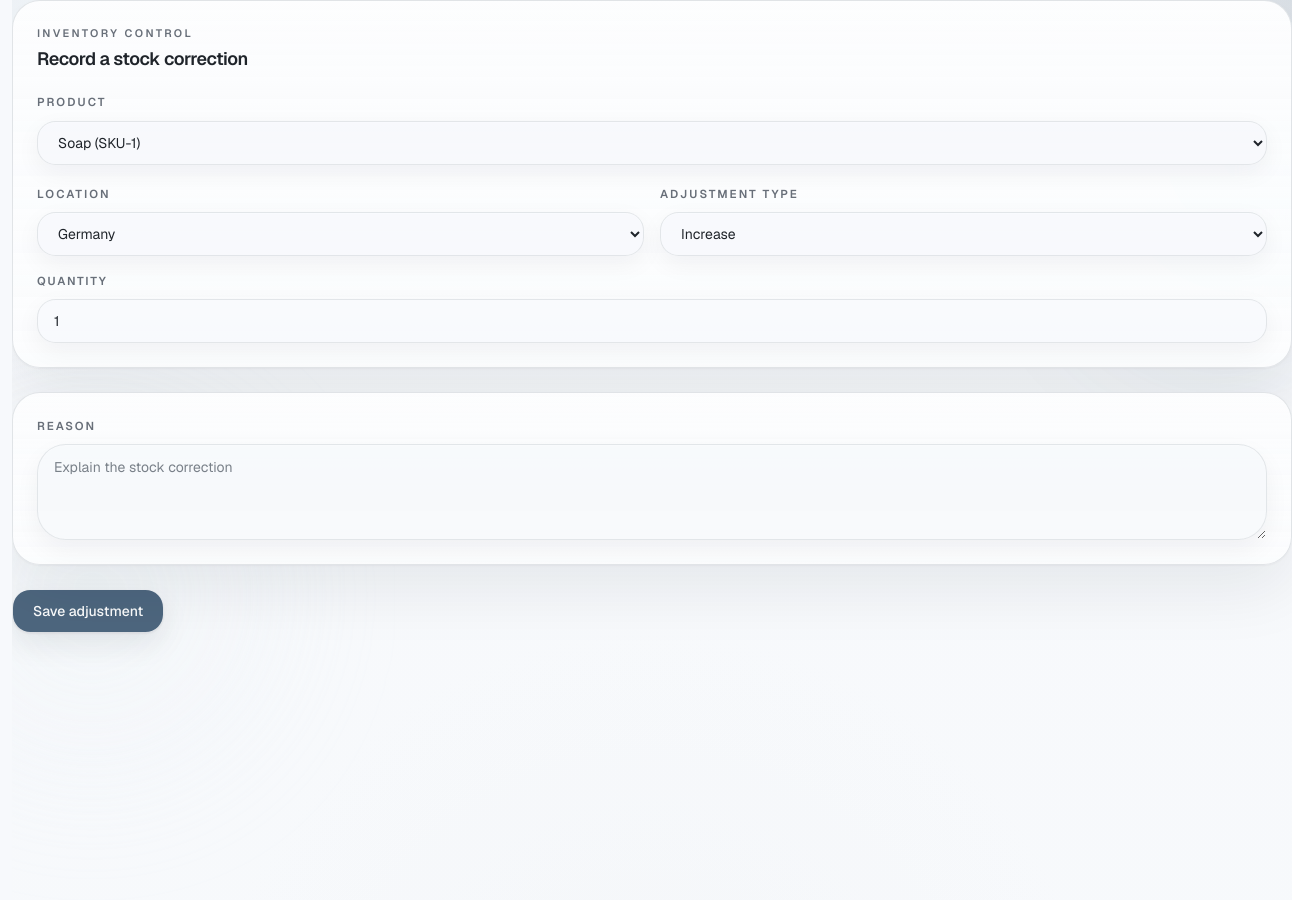
Test: InventoryAdjustmentForm › shows landed cost input for bangladesh increase and set adjustments
Select "Bangladesh" in the dropdown labelled "Location" at {"x": 340, "y": 234}, box [37,212,644,256]
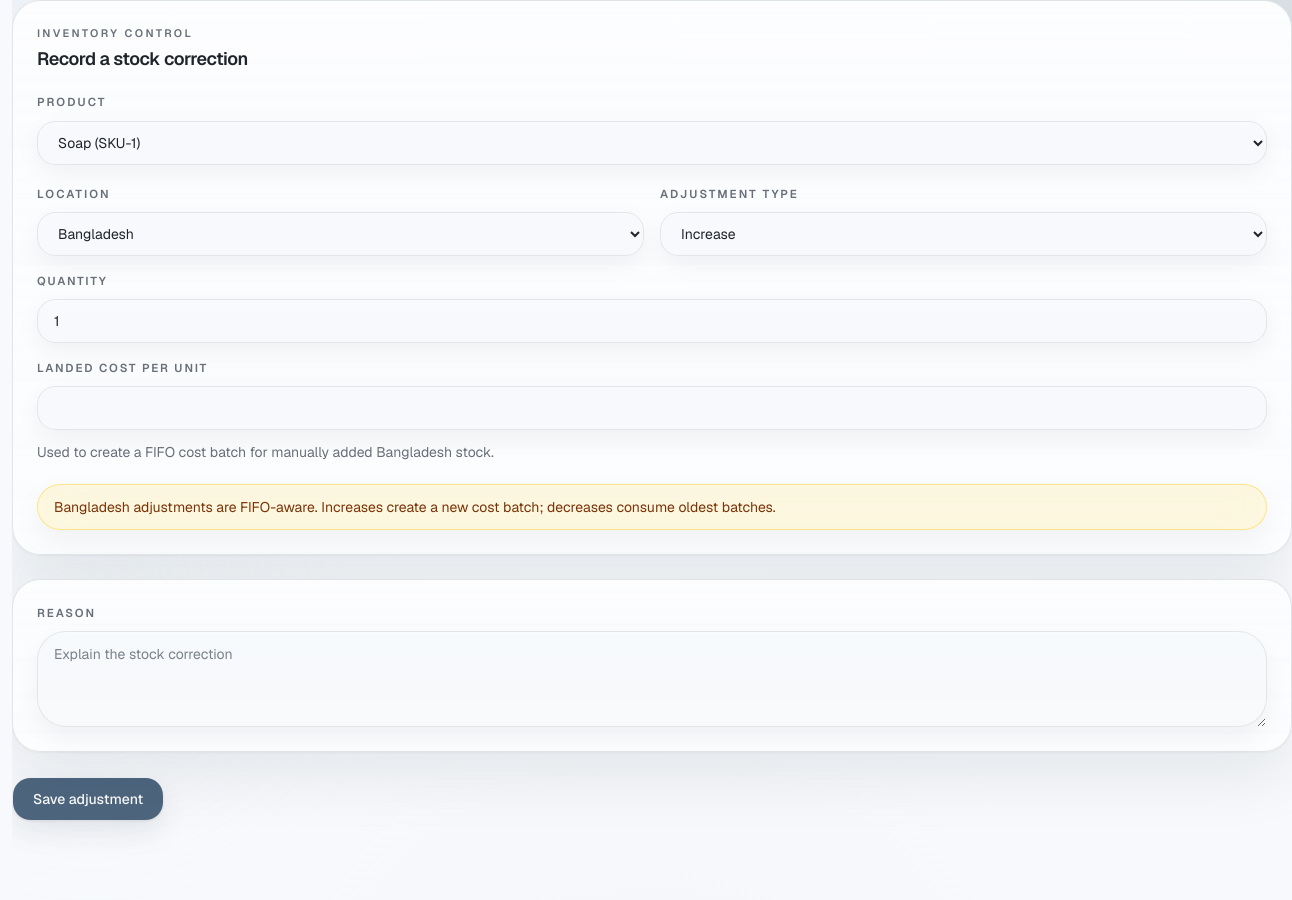
Result: the number field labelled "Landed cost per unit" is shown at [37,386,1267,430]
Select "Decrease" in the dropdown labelled "Adjustment type" at {"x": 964, "y": 234}, box [660,212,1267,256]
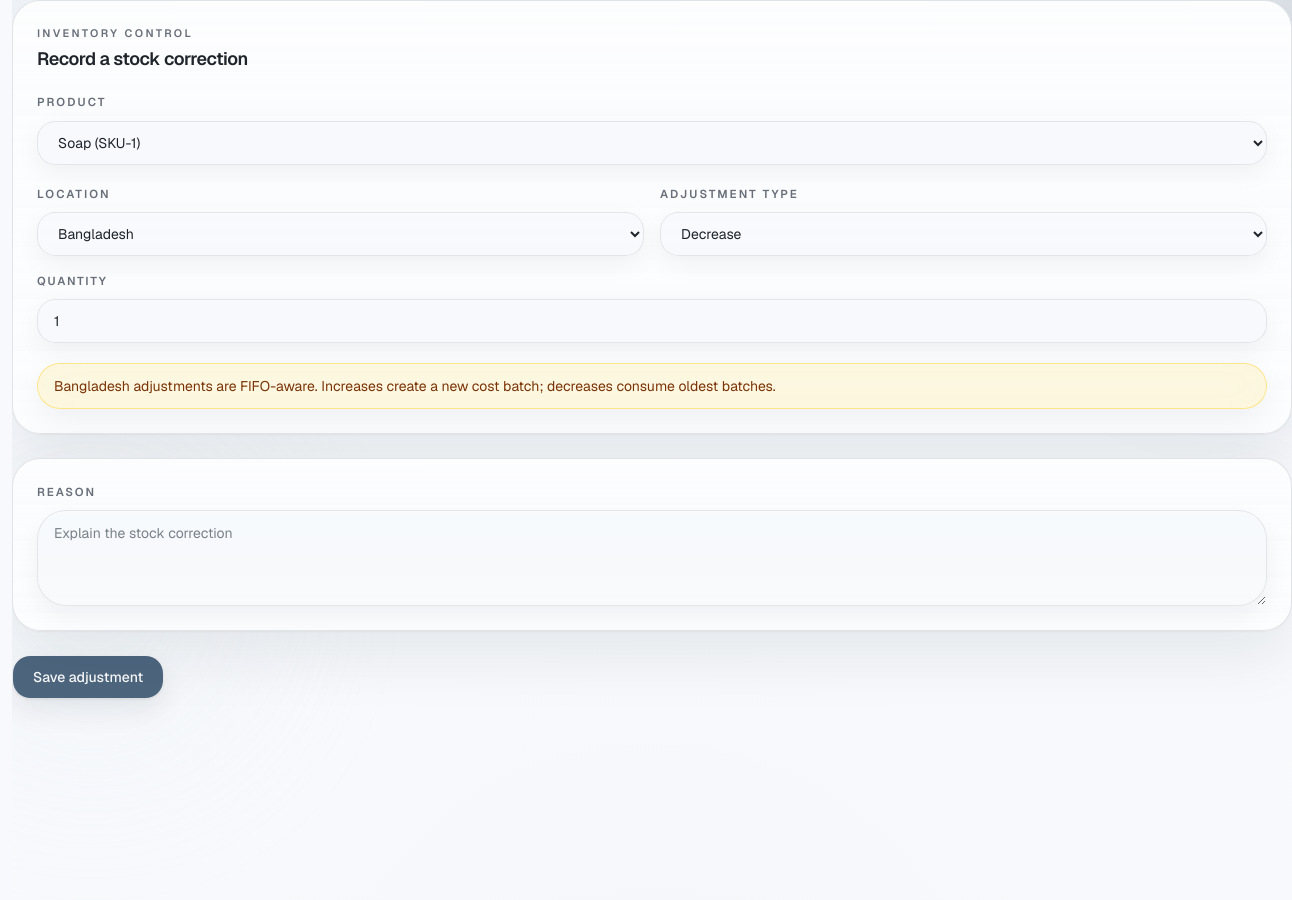
Result: the label labelled "Landed cost per unit" is gone
Select "Set exact quantity" in the dropdown labelled "Adjustment type" at {"x": 964, "y": 234}, box [660,212,1267,256]
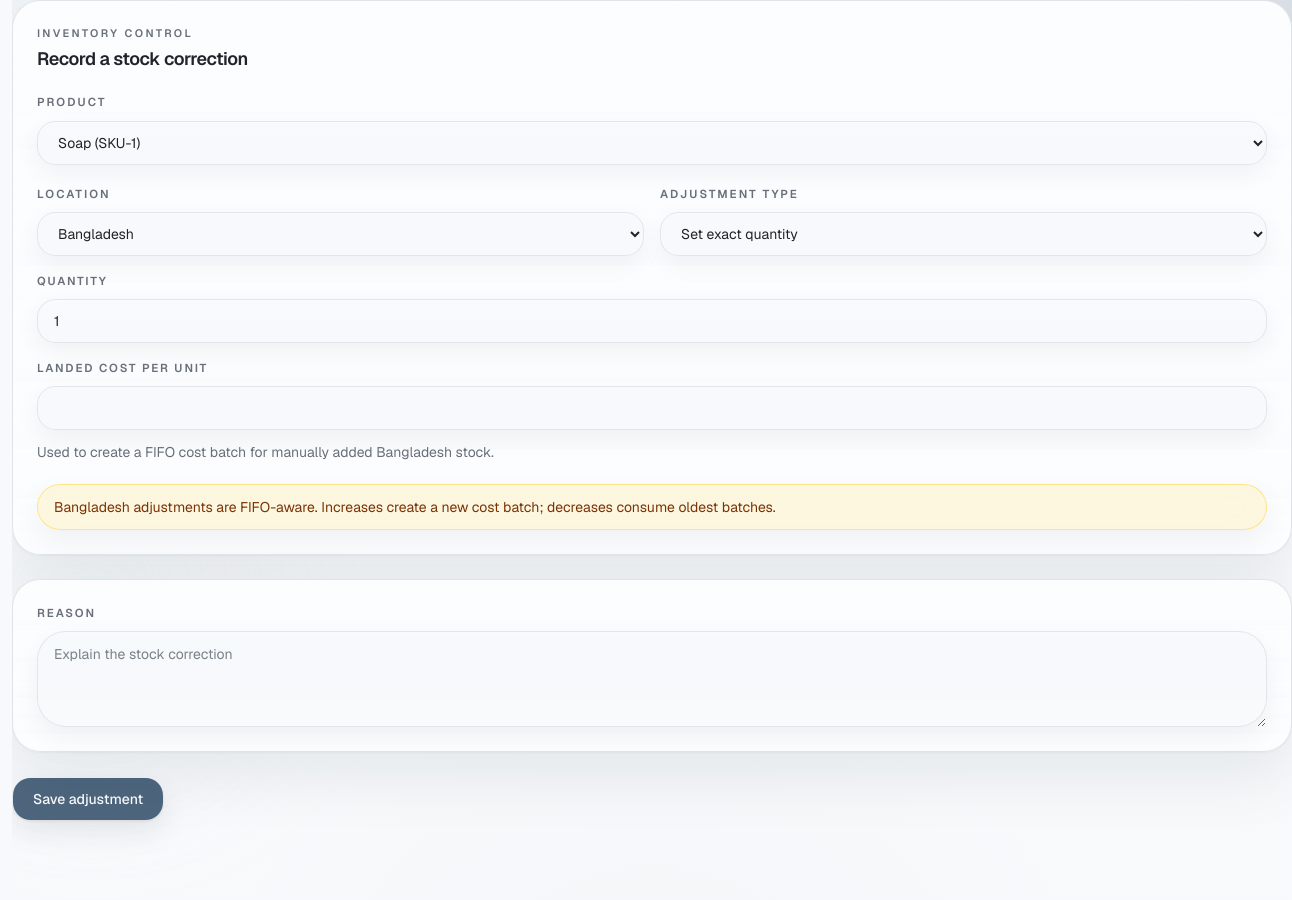
Result: the number field labelled "Landed cost per unit" is shown at [37,386,1267,430]
